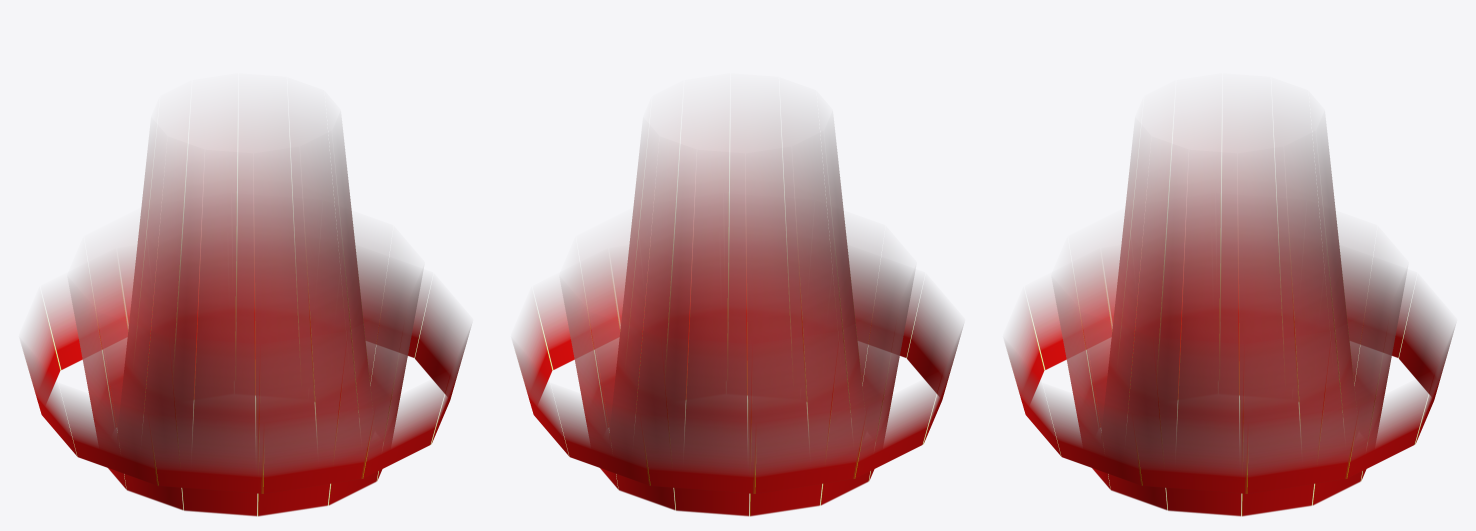
Rendered from portal-fade01.glb.
The picture shows the model from 3 angles, left to right: view 1: azimuth 30°, elevation 25°; view 2: azimuth 150°, elevation 25°; view 3: azimuth 270°, elevation 25°; orthographic projection.
Parts seen in each view (by area): view 1: PortalFade01; view 2: PortalFade01; view 3: PortalFade01.
Boxes of the visible parts, left/top/right/bottom form: PortalFade01: left=20, top=103, right=471, bottom=516; PortalFade01: left=512, top=103, right=963, bottom=516; PortalFade01: left=1004, top=103, right=1455, bottom=516.
Size of the model in its own units: 1.66 by 1.59 by 1.66.
Materials: 1 (1 with a texture image).
